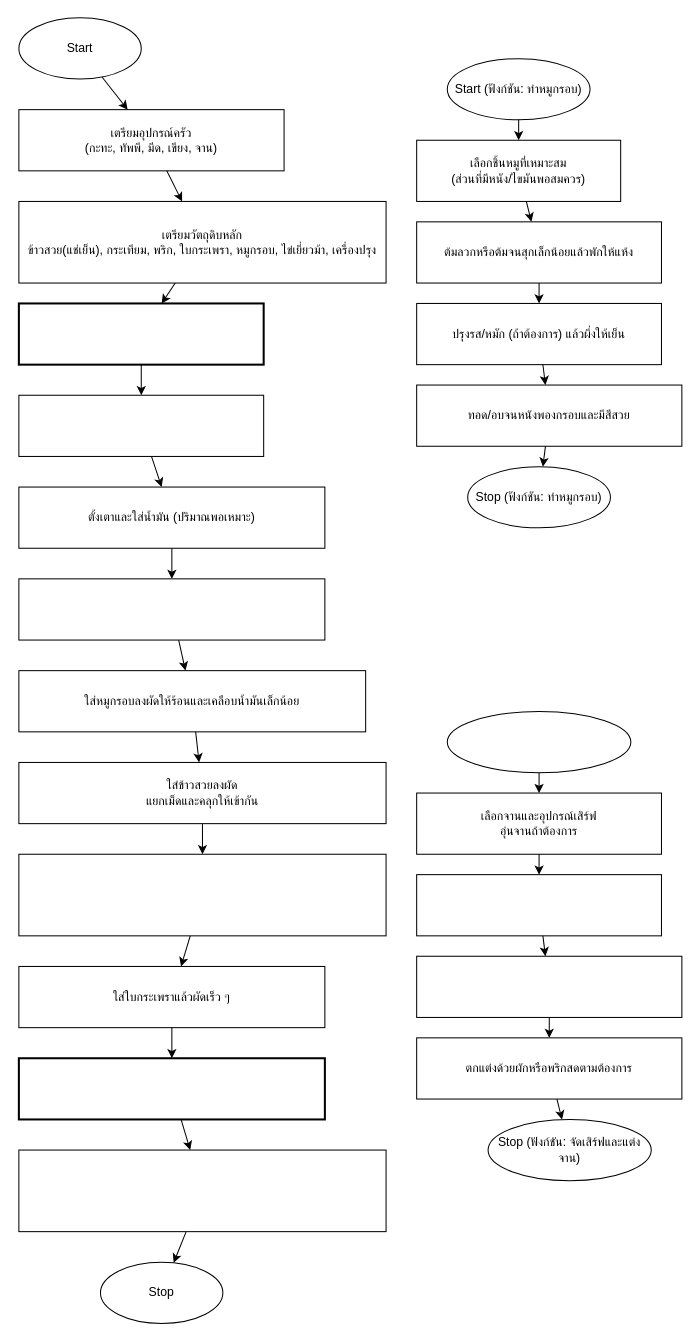
The diagram is 700 pixels wide and 1341 high, and some of its shapes have lost their labels. Each missing label, with the centre of its shape:
Start (ฟังก์ชัน: จัดเสิร์ฟและแต่งจาน): pixel 538 741
จัดวางข้าวผัดบนจาน วางหมูกรอบและวางไข่เยี่ยวม้า: pixel 202 1190
ตักข้าวผัดลงในจานและปาดให้เรียบ: pixel 538 905
ปรุงรสด้วยน้ำปลา/ซีอิ๊ว/น้ำตาล ชิมและปรับรสตามต้องการ: pixel 202 894
ฟังก์ชัน: จัดเสิร์ฟและแต่งจาน: pixel 171 1088
ฟังก์ชัน: ทำหมูกรอบ: pixel 140 333
วางหมูกรอบและจัดไข่เยี่ยวม้าเป็นชิ้นข้างจาน: pixel 549 986
สับกระเทียมและพริก: pixel 141 425
เจียวกระเทียมและพริกจนหอม: pixel 171 609
